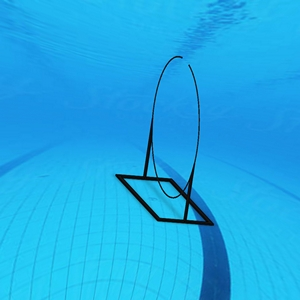circle: (112, 54, 221, 231)
